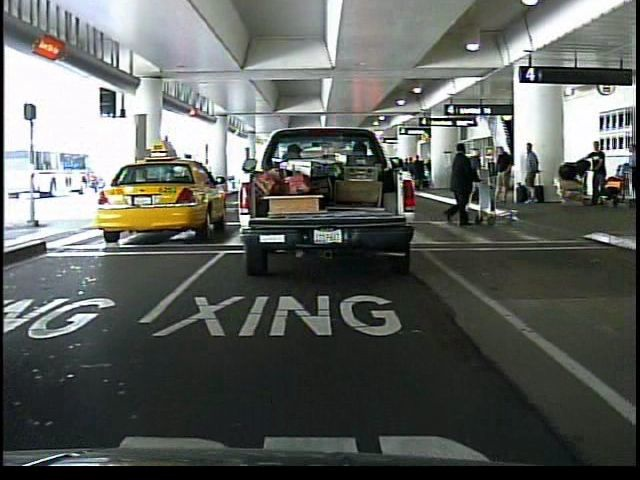person: (441, 142, 480, 232), (466, 146, 487, 219), (618, 139, 640, 206), (589, 139, 609, 199)
